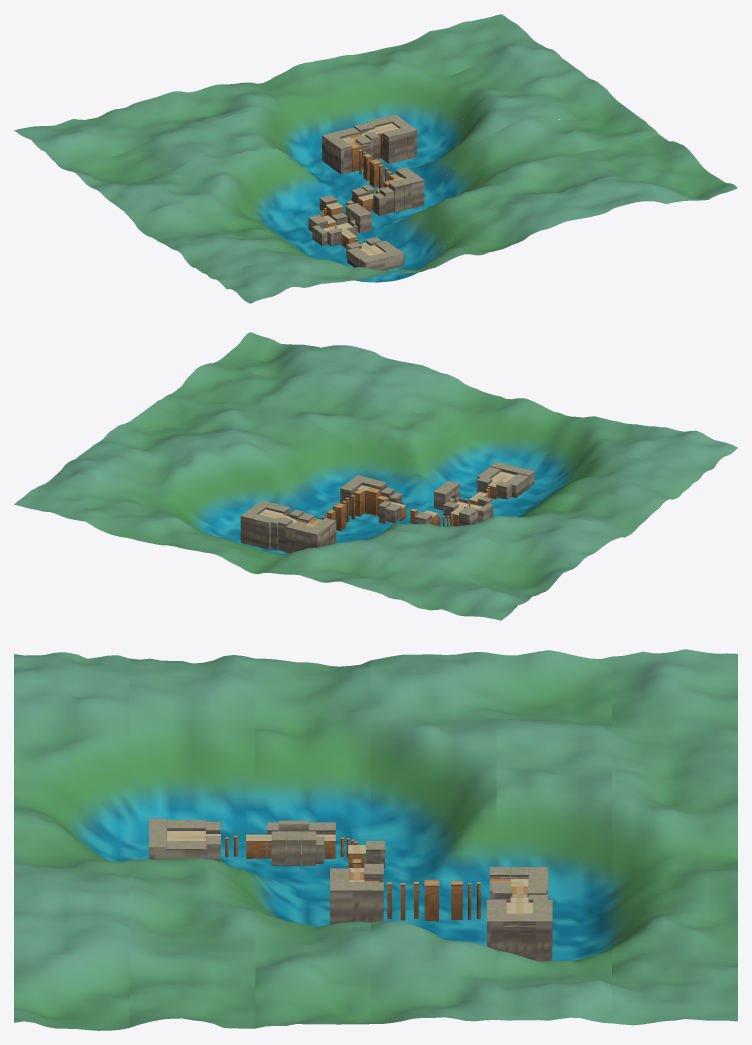
File: sunset_lagoon_terrain.glb
3 renders of one model, top to bottom at view 1: azimuth 30°, elevation 25°; view 2: azimuth 150°, elevation 25°; view 3: azimuth 270°, elevation 25°, orthographic. The views are drawn at different scales.
Visible parts, largest first — view 1: backdrop_5, backdrop_3, backdrop_4, backdrop_1, backdrop_2, backdrop_0, terrain_J, terrain_C, terrain_G, terrain_H, terrain_A, terrain_I (+2 smaller); view 2: backdrop_0, backdrop_1, backdrop_5, backdrop_3, backdrop_2, backdrop_4, terrain_I, terrain_J, terrain_C, terrain_G, terrain_A, terrain_F (+3 smaller); view 3: backdrop_5, backdrop_1, backdrop_0, backdrop_3, backdrop_4, backdrop_2, terrain_J, terrain_G, terrain_C, terrain_A, terrain_I, terrain_D (+2 smaller).
Part boxes in pixels (left/top/right/bottom): backdrop_5: left=14, top=14, right=541, bottom=164; backdrop_3: left=93, top=71, right=620, bottom=226; backdrop_4: left=55, top=44, right=579, bottom=188; backdrop_1: left=172, top=134, right=699, bottom=282; backdrop_2: left=134, top=104, right=658, bottom=255; backdrop_0: left=213, top=164, right=737, bottom=303; terrain_J: left=367, top=114, right=417, bottom=163; terrain_C: left=312, top=203, right=371, bottom=245; terrain_G: left=369, top=159, right=424, bottom=209; terrain_H: left=334, top=136, right=373, bottom=180; terrain_A: left=347, top=240, right=404, bottom=270; terrain_I: left=322, top=122, right=380, bottom=169; backdrop_0: left=213, top=332, right=737, bottom=481; backdrop_1: left=172, top=363, right=699, bottom=514; backdrop_5: left=14, top=474, right=540, bottom=620; backdrop_3: left=93, top=418, right=620, bottom=562; backdrop_2: left=134, top=393, right=658, bottom=537; backdrop_4: left=55, top=445, right=579, bottom=594; terrain_I: left=271, top=509, right=329, bottom=553; terrain_J: left=240, top=500, right=290, bottom=549; terrain_C: left=434, top=481, right=493, bottom=524; terrain_G: left=333, top=475, right=376, bottom=531; terrain_A: left=477, top=462, right=534, bottom=497; terrain_F: left=366, top=480, right=402, bottom=524; backdrop_5: left=612, top=649, right=737, bottom=1025; backdrop_1: left=129, top=655, right=255, bottom=1028; backdrop_0: left=14, top=652, right=129, bottom=1030; backdrop_3: left=370, top=652, right=496, bottom=1023; backdrop_4: left=496, top=650, right=611, bottom=1023; backdrop_2: left=255, top=658, right=370, bottom=1028; terrain_J: left=486, top=899, right=552, bottom=961; terrain_G: left=330, top=876, right=439, bottom=924; terrain_C: left=267, top=820, right=323, bottom=866; terrain_A: left=149, top=818, right=205, bottom=859; terrain_I: left=492, top=867, right=548, bottom=902; terrain_D: left=324, top=822, right=385, bottom=868.
Size of the model in its own units: 574 by 61.93 by 483.
